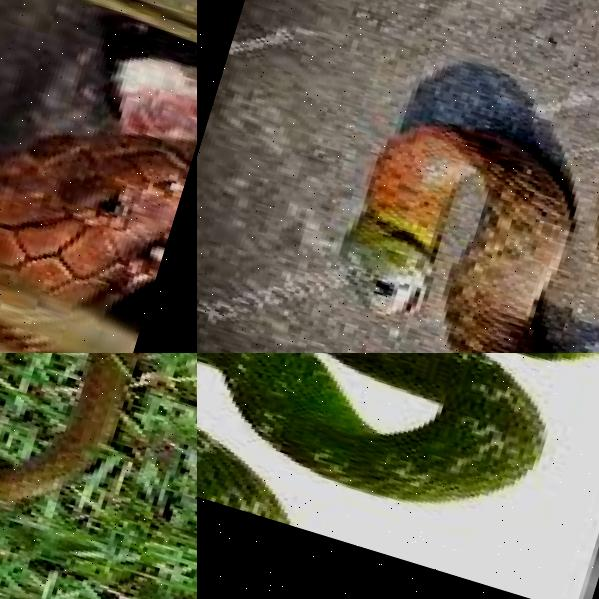snake: (281, 0, 599, 353), (197, 353, 599, 599), (0, 0, 197, 353), (0, 353, 197, 599)
